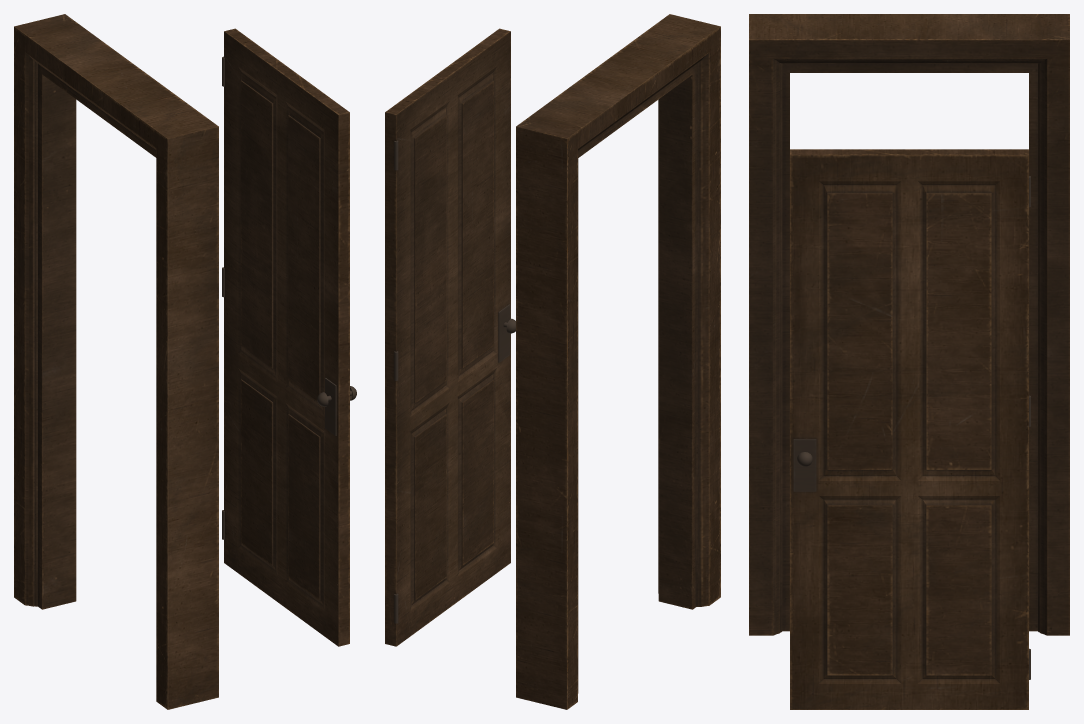
The model's file is old_wood_door_free.glb.
3 renders of one model, left to right at view 1: azimuth 30°, elevation 25°; view 2: azimuth 150°, elevation 25°; view 3: azimuth 270°, elevation 25°, orthographic. The views are drawn at different scales.
Size of the model in its own units: 1.26 by 3.2 by 1.56.
Materials: 1 (1 with a texture image).
